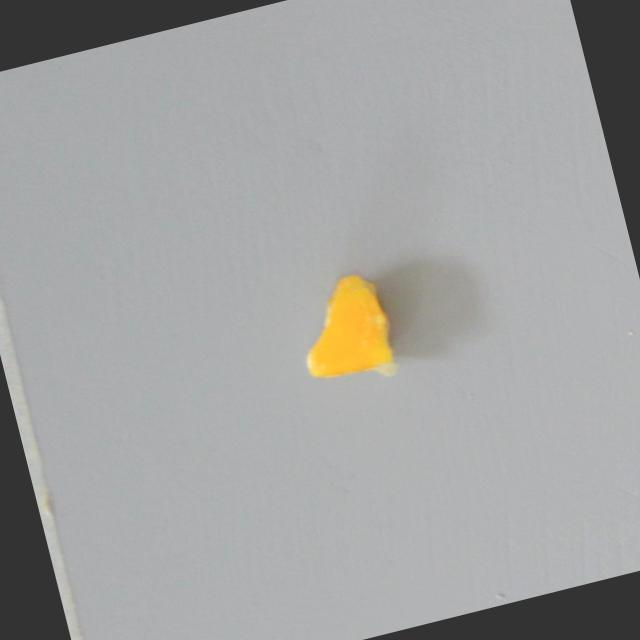pelicula: (278, 262, 416, 397)
